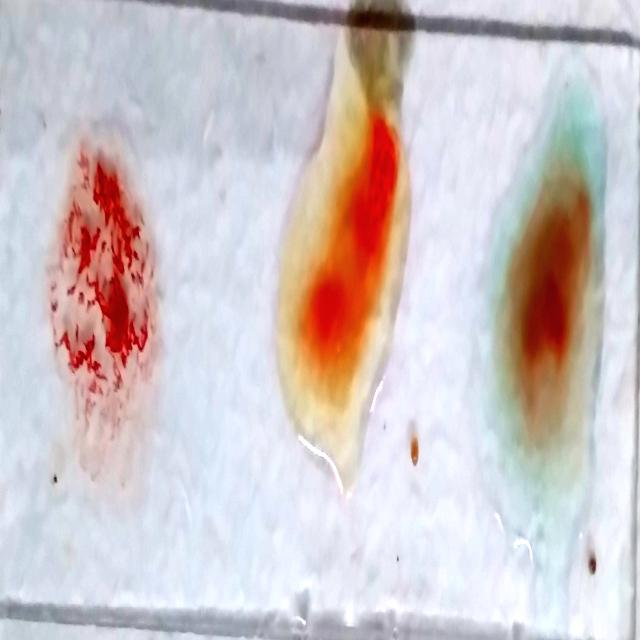D: (49, 129, 161, 439)
